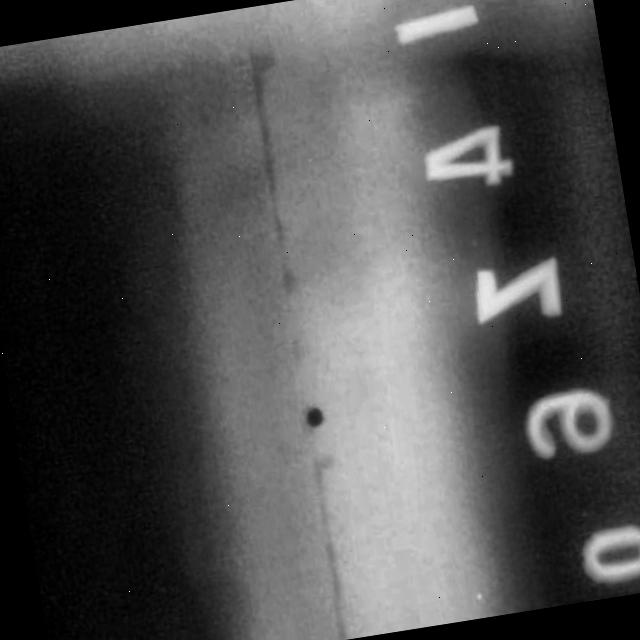LoP-LoF: (200, 2, 397, 640)
Pore: (295, 397, 331, 431)
